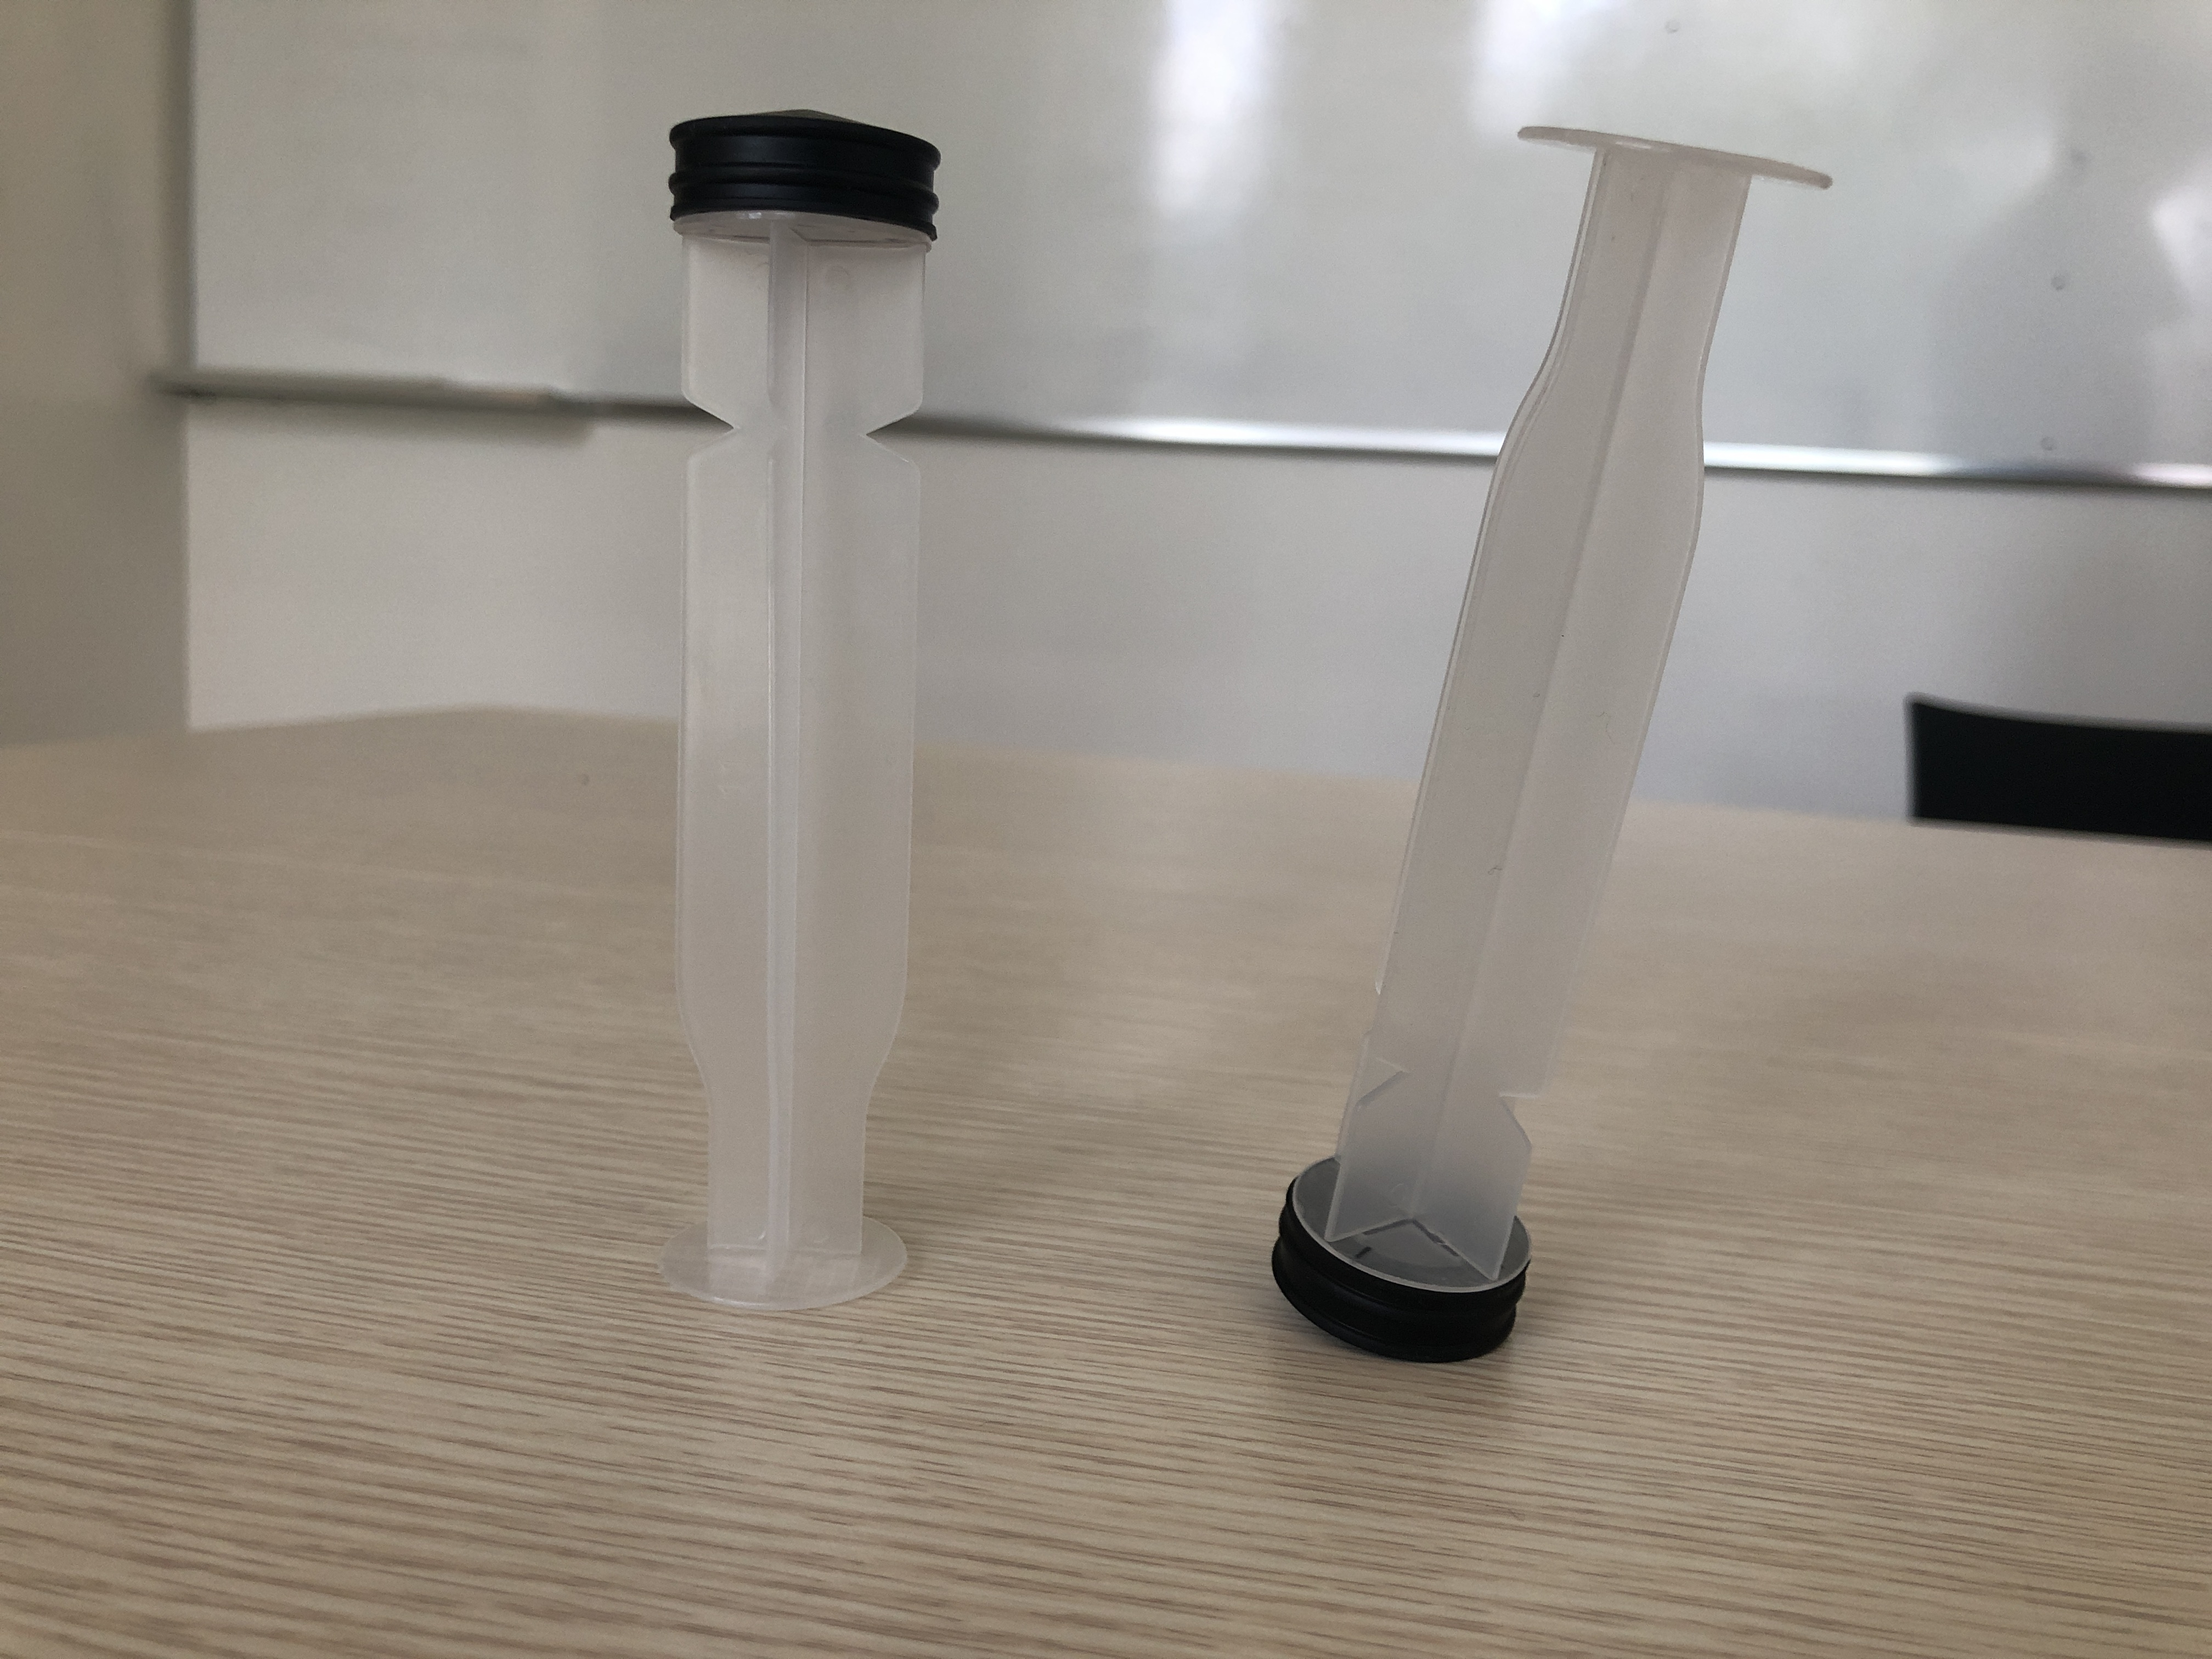plunger: (1258, 110, 1841, 1370), (653, 99, 954, 1310)
